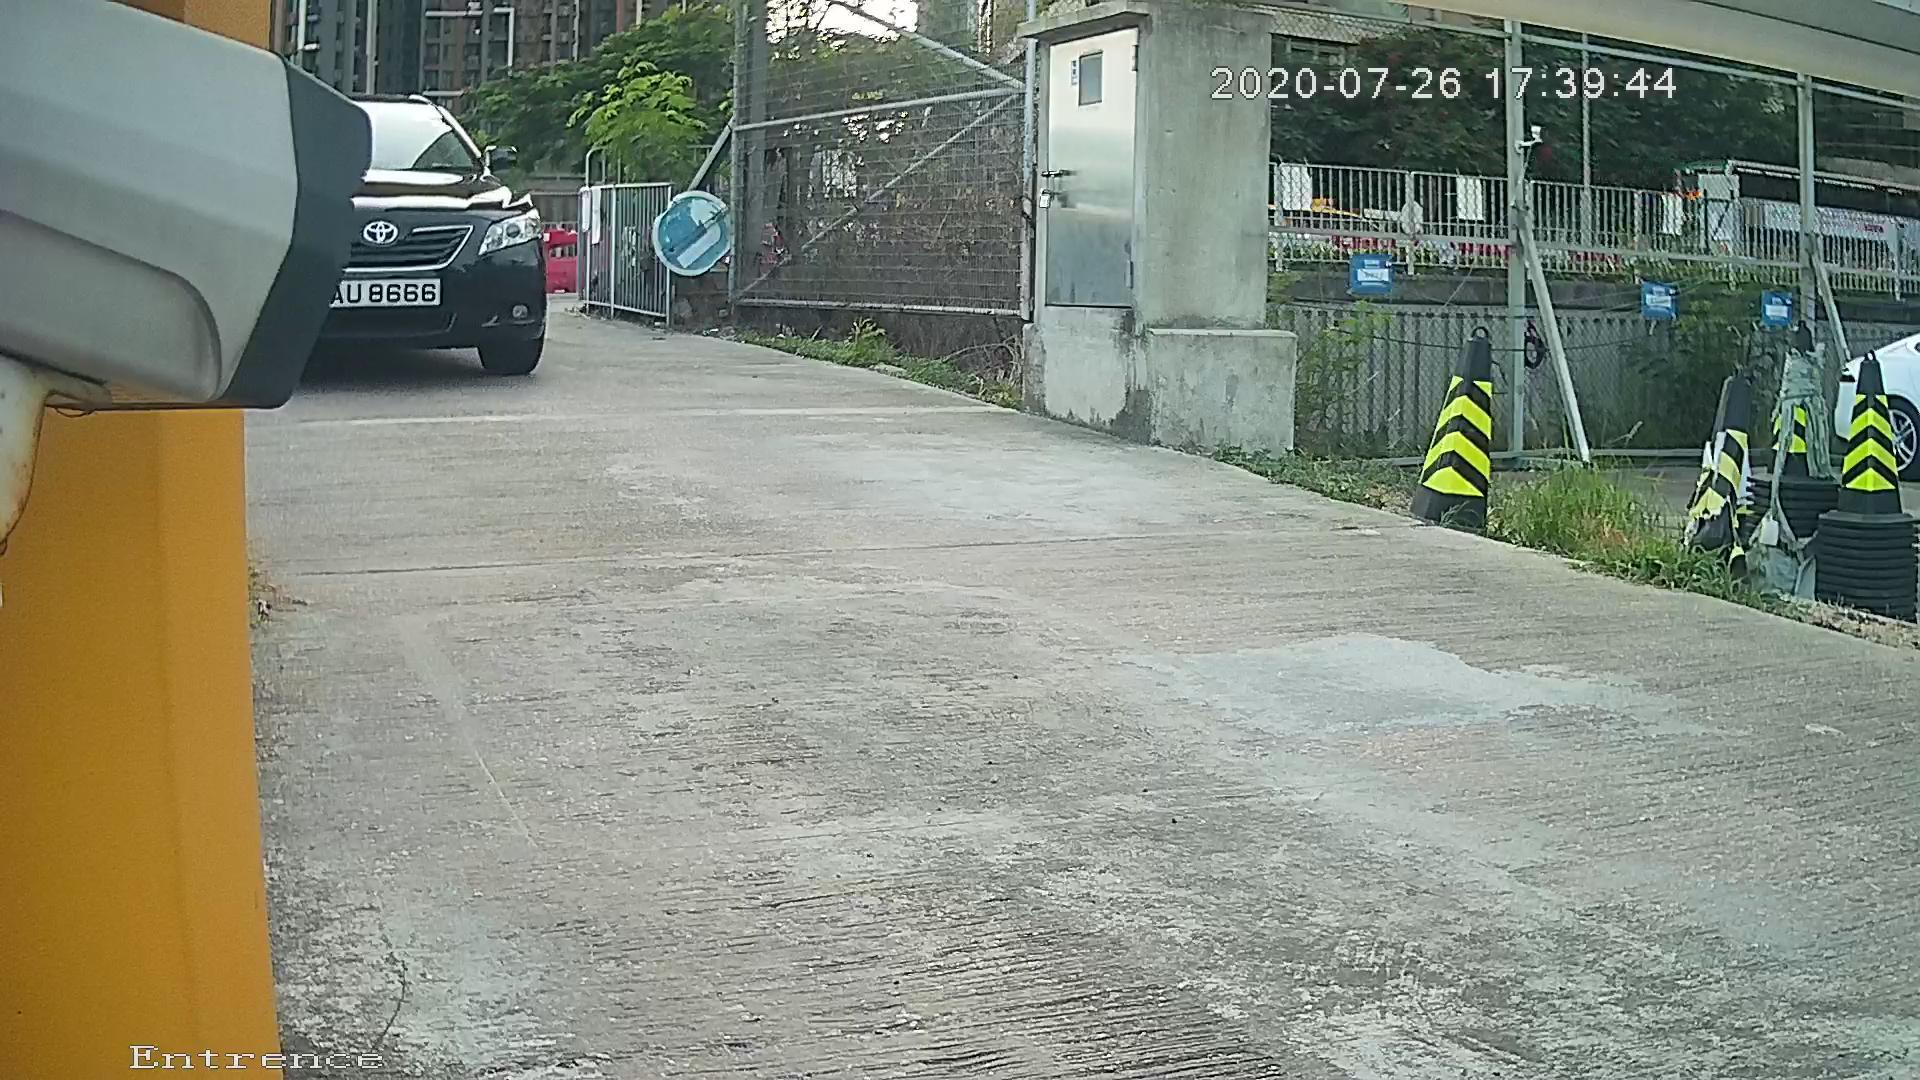privatecar: (121, 15, 644, 419)
